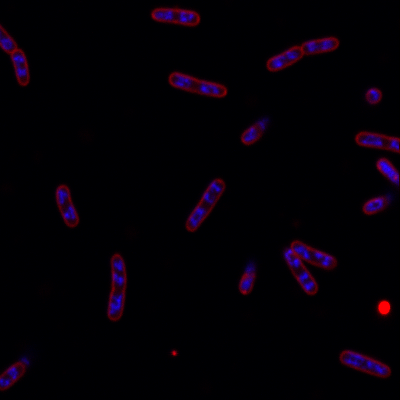Control: (264, 35, 341, 74), (182, 176, 227, 234), (280, 246, 319, 297), (289, 234, 339, 272), (338, 346, 392, 381), (104, 253, 129, 323), (168, 70, 227, 99), (53, 183, 80, 229), (149, 5, 202, 28)
Oblique: (358, 189, 397, 218), (238, 115, 272, 147), (236, 258, 261, 297), (362, 86, 384, 105)
Vesicle: (375, 297, 392, 317), (168, 347, 180, 358)
